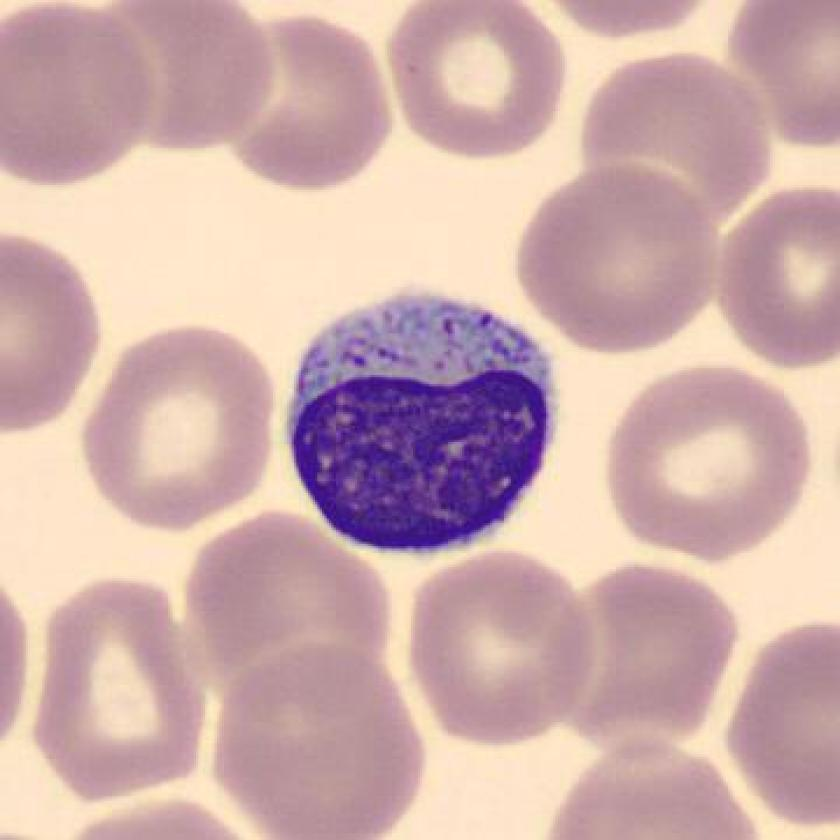lymphocyte: (272, 272, 573, 577)
